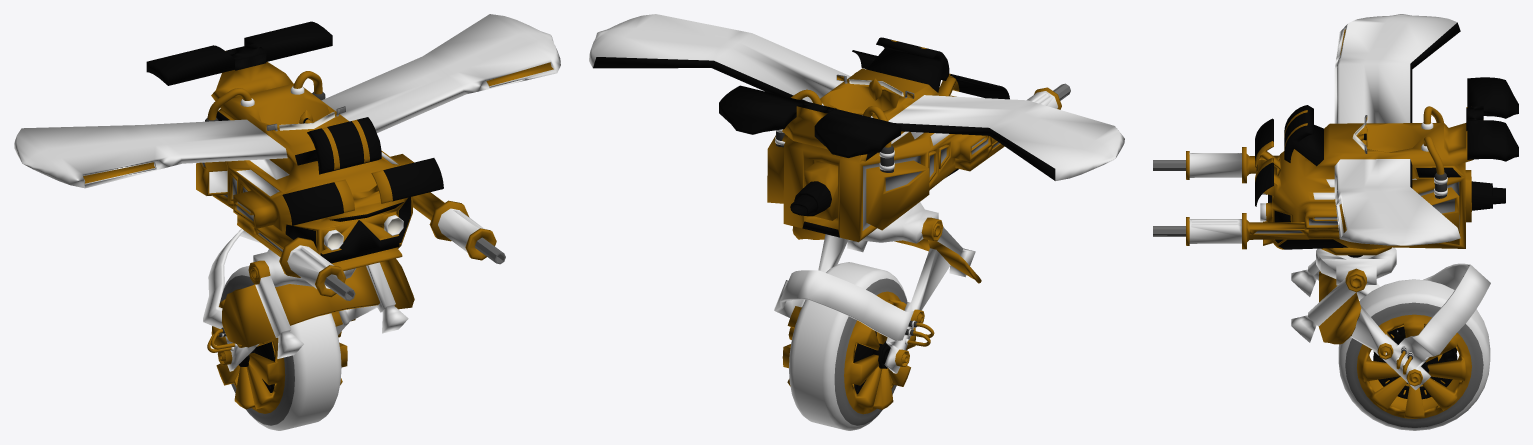
File: Robot SamuAnimations.fbx
The picture shows the model from 3 angles, left to right: view 1: azimuth 30°, elevation 25°; view 2: azimuth 150°, elevation 25°; view 3: azimuth 270°, elevation 25°; orthographic projection. The views are drawn at different scales.
Parts seen in each view (by area): view 1: CuerpoSuperior, Cube.009, Rueda, Bullets; view 2: CuerpoSuperior, Rueda, Cube.009; view 3: CuerpoSuperior, Rueda, Cube.009, Bullets, RadioSuperior.
Boxes of the visible parts, left/top/right/bottom form: CuerpoSuperior: left=14, top=14, right=560, bottom=297; Cube.009: left=203, top=228, right=414, bottom=371; Rueda: left=211, top=265, right=347, bottom=430; Bullets: left=324, top=237, right=505, bottom=300; CuerpoSuperior: left=589, top=14, right=1124, bottom=242; Rueda: left=782, top=262, right=915, bottom=430; Cube.009: left=774, top=202, right=981, bottom=373; CuerpoSuperior: left=1186, top=14, right=1518, bottom=249; Rueda: left=1338, top=279, right=1490, bottom=430; Cube.009: left=1291, top=247, right=1490, bottom=390; Bullets: left=1153, top=160, right=1185, bottom=236; RadioSuperior: left=1321, top=247, right=1391, bottom=255.
Bounding box in the file's own units: 694 × 435 × 463.
